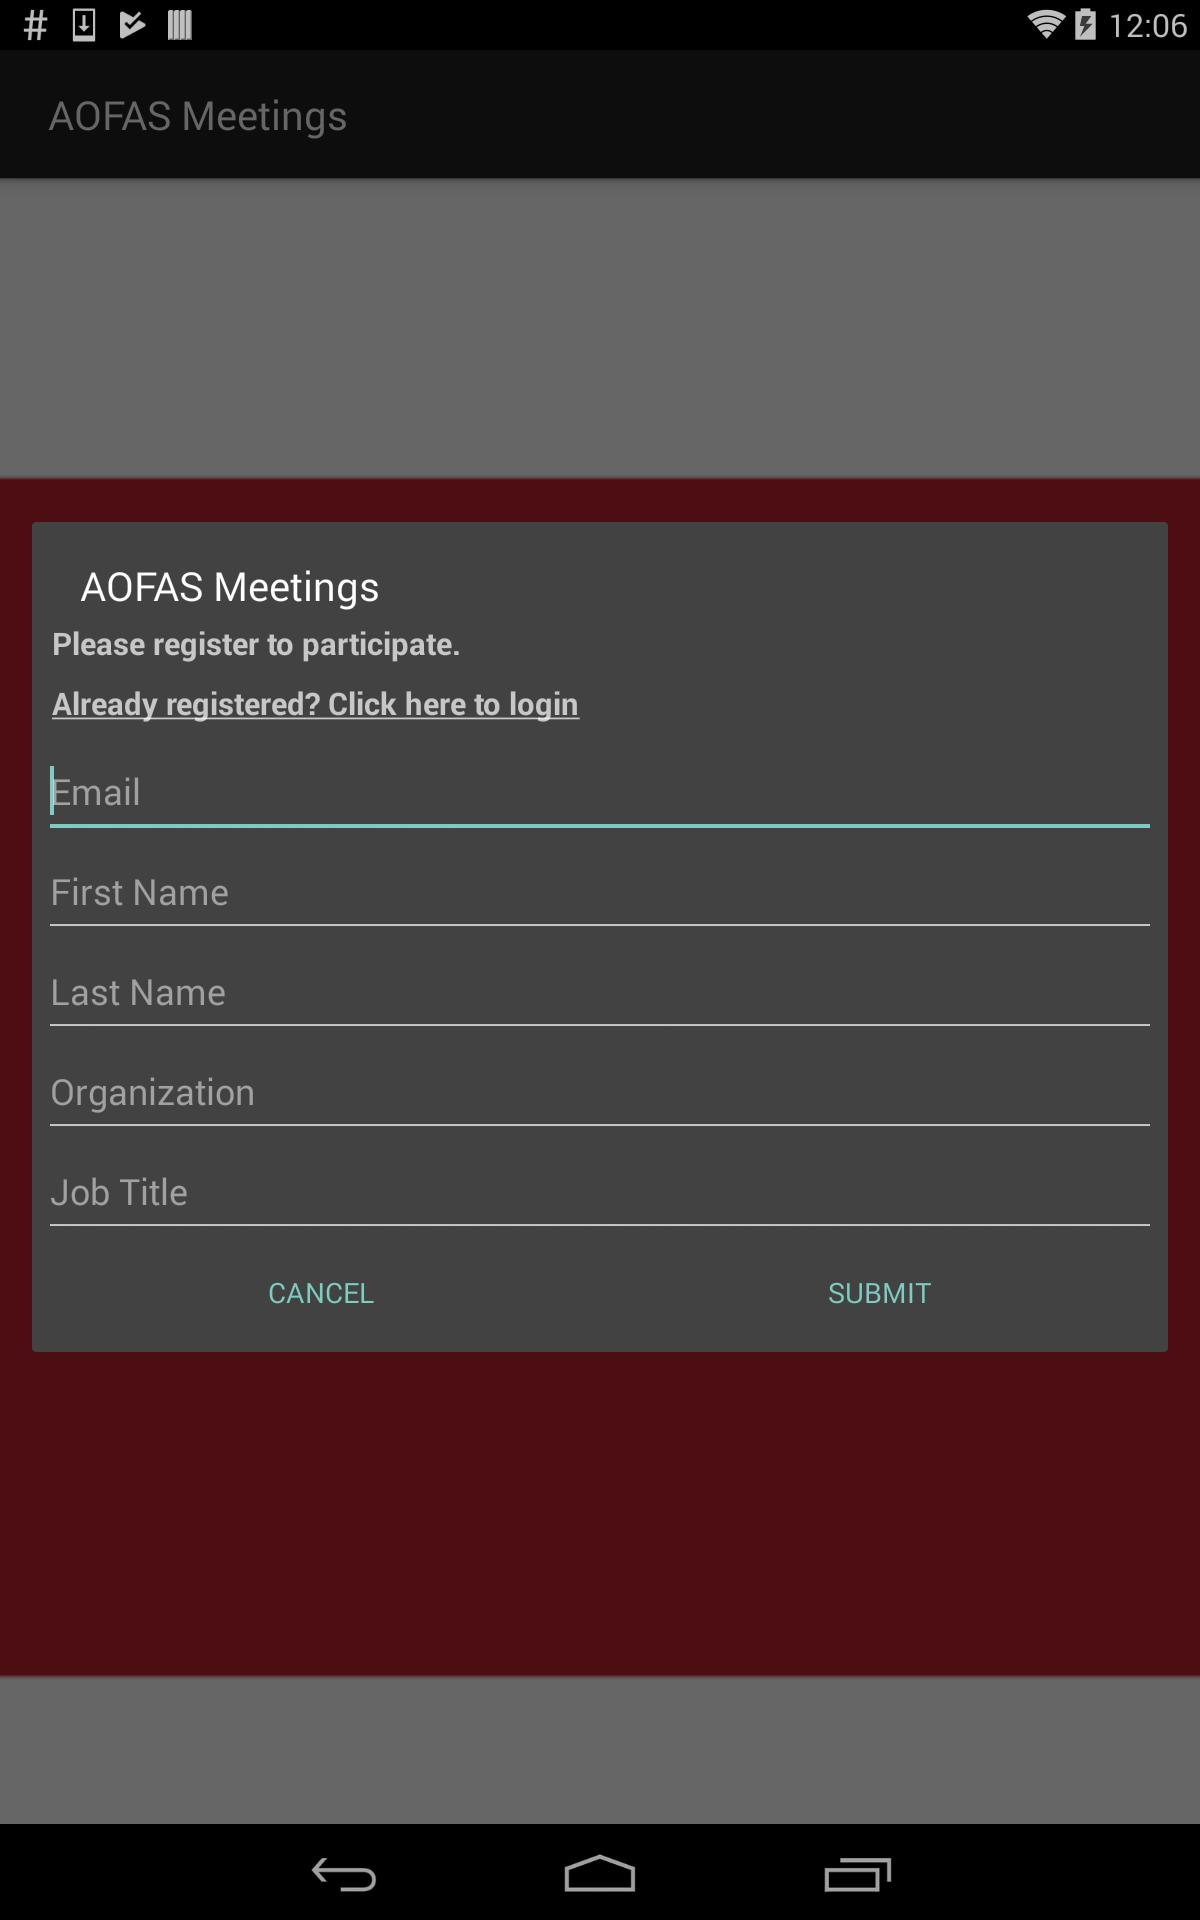android.widget.Button: (41, 1243, 600, 1342), (600, 1243, 1159, 1342)
android.widget.EditText: (41, 941, 1159, 1042), (41, 1142, 1159, 1243), (41, 742, 1159, 842), (41, 842, 1159, 941), (41, 1042, 1159, 1142)
android.widget.FrameLayout: (0, 489, 1200, 1384), (32, 523, 1168, 1352), (32, 612, 1168, 1352)
android.widget.LinearLayout: (32, 523, 1168, 1352), (32, 612, 1168, 1352), (41, 622, 1159, 1342), (41, 1243, 1159, 1342)
android.widget.ScrollView: (32, 612, 1168, 1352)
android.widget.TextView: (32, 523, 1168, 612), (41, 681, 1159, 724), (41, 622, 1159, 663)
